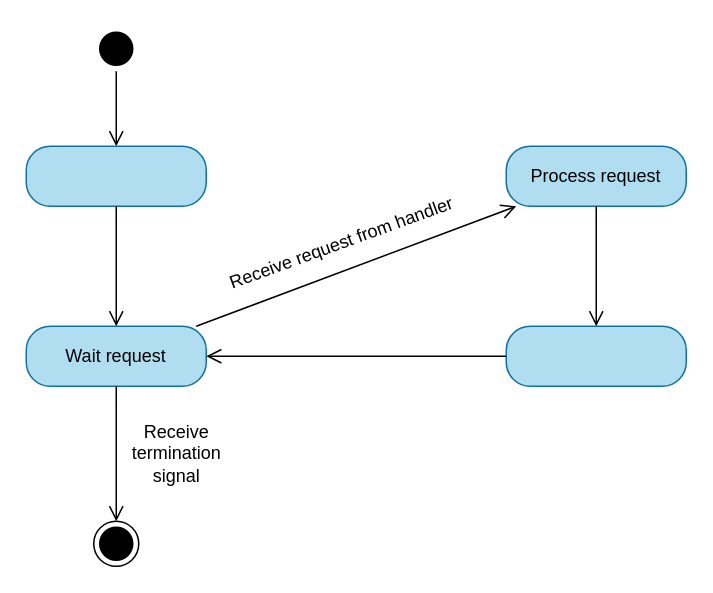
The diagram is 713 pixels wide and 593 high, and some of its shapes have lost their labels. The centre of each missing label's shape, as x and y in pixels:
Send response: the point at 595,355
Setup: the point at 115,175
